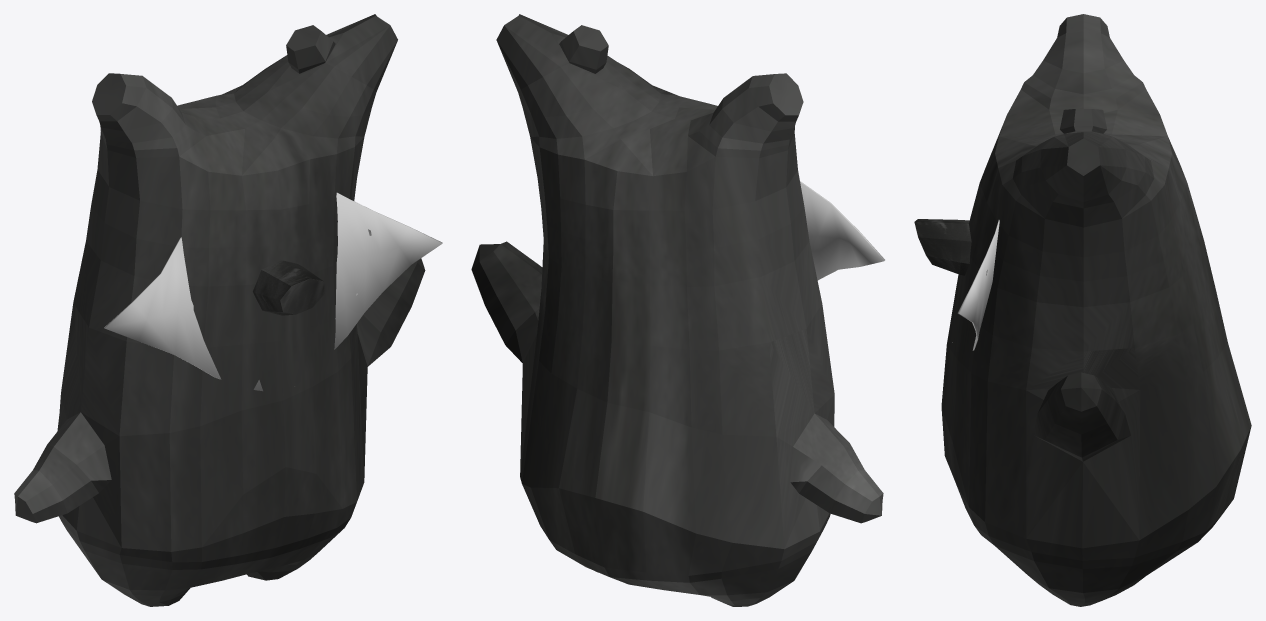
Rendered from frame_0075.obj.
The picture shows the model from 3 angles, left to right: view 1: azimuth 30°, elevation 25°; view 2: azimuth 150°, elevation 25°; view 3: azimuth 270°, elevation 25°; orthographic projection. The views are drawn at different scales.
Visible parts, largest first — view 1: korok, leaf, nose; view 2: korok, leaf; view 3: korok, nose, leaf.
Part boxes in pixels (x1,y1,x2,y2): korok: (14, 14, 425, 606); leaf: (104, 192, 442, 391); nose: (253, 260, 324, 315); korok: (471, 14, 883, 606); leaf: (800, 181, 884, 280); korok: (941, 14, 1251, 606); nose: (914, 219, 971, 275); leaf: (952, 220, 999, 350).
Bounding box in the file's own units: 1.7 × 2.16 × 1.27.
